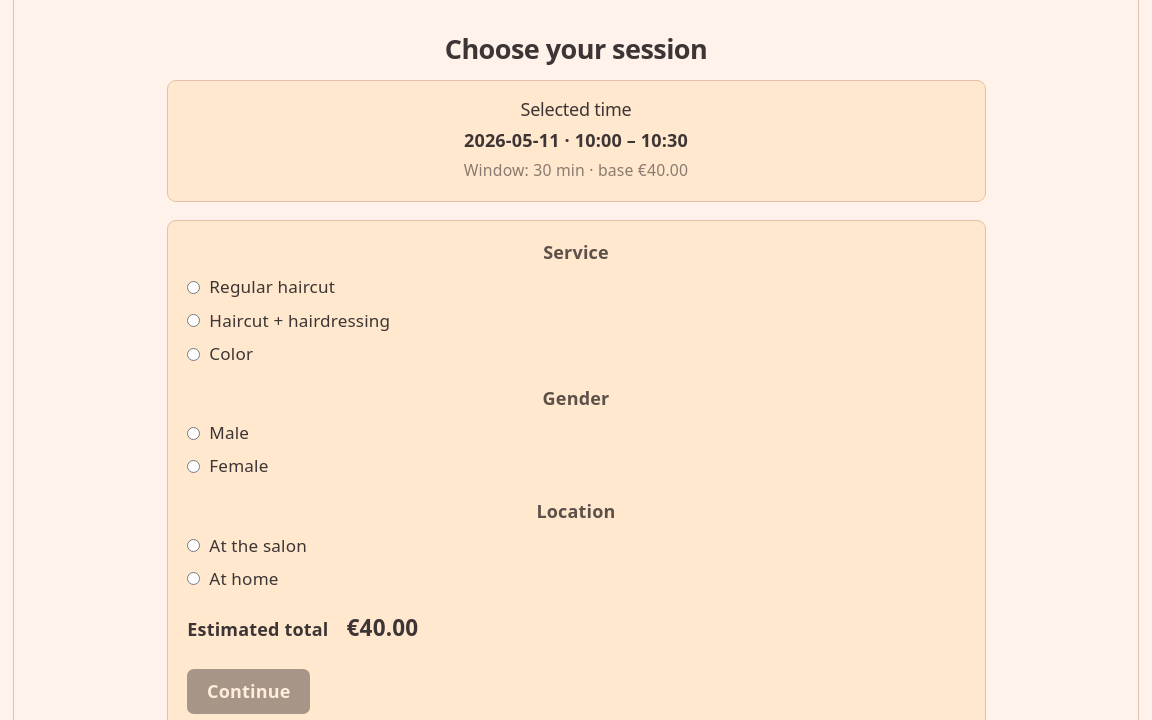
Test: ClientServiceView › keeps Continue disabled until type, gender, and location are valid for the slot
Expected: the button "Continue" is disabled, [187,669,310,714]
Click the radio button named "serviceType".
click(194, 288)  # box [187,281,200,294]
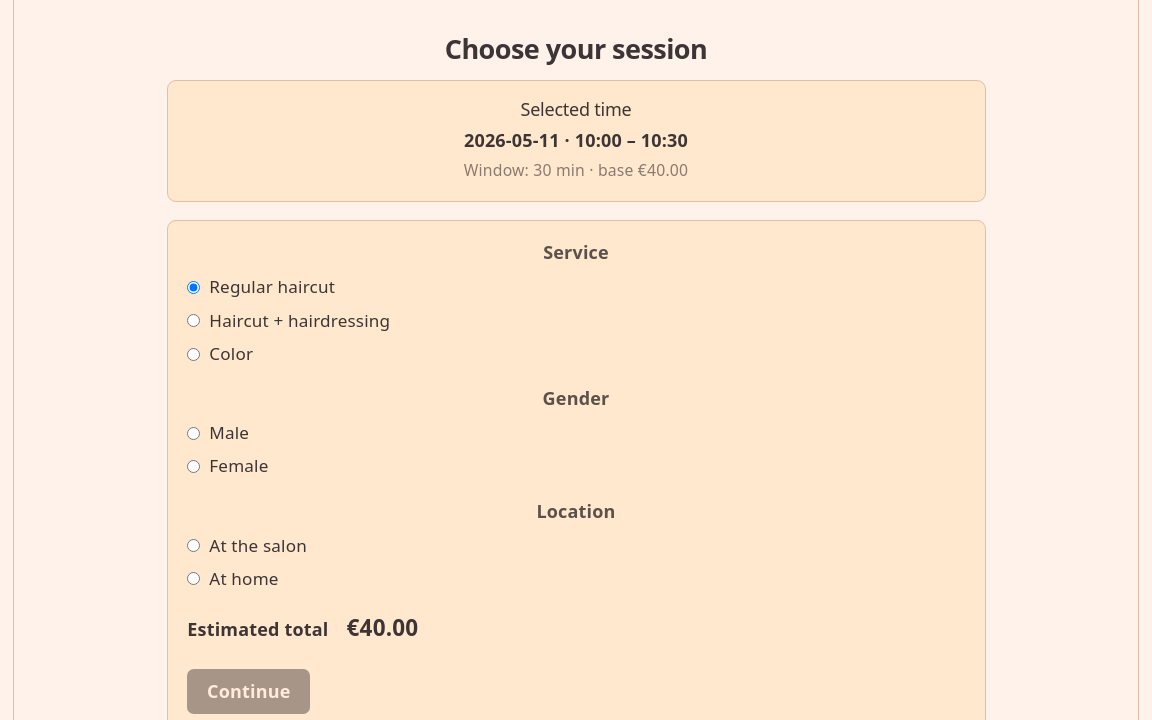
Click the radio button named "gender".
click(194, 433)  # box [187,427,200,440]
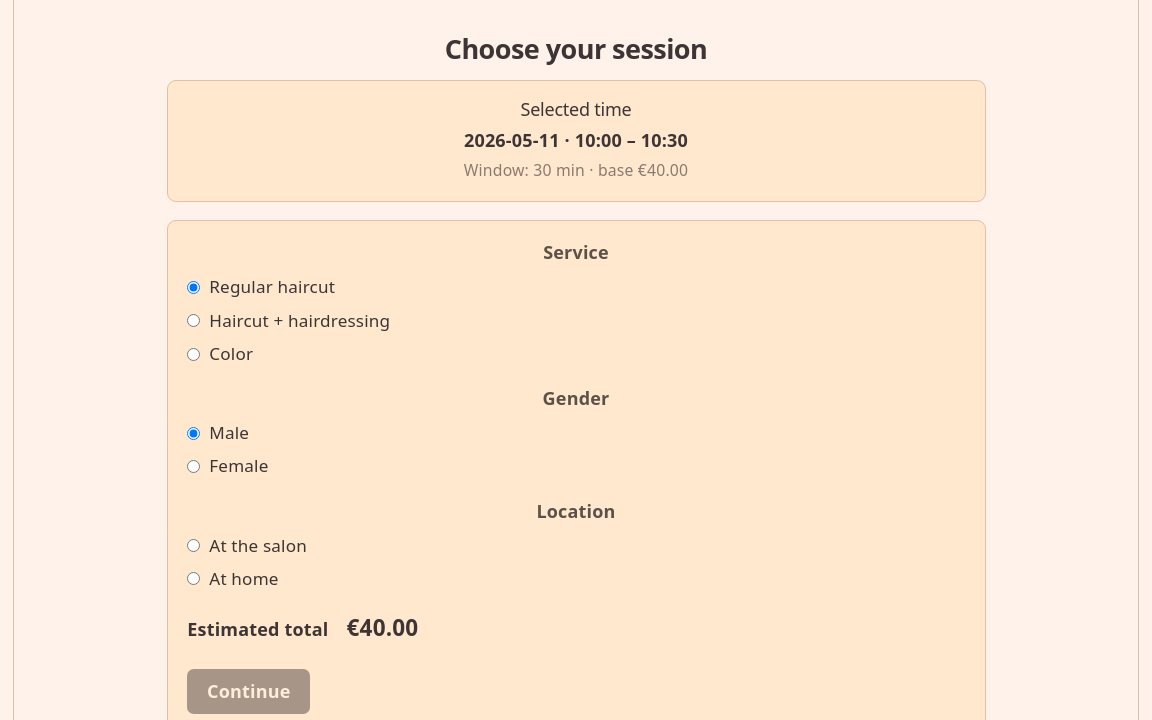
Click the radio button named "location".
click(194, 546)  # box [187,539,200,552]
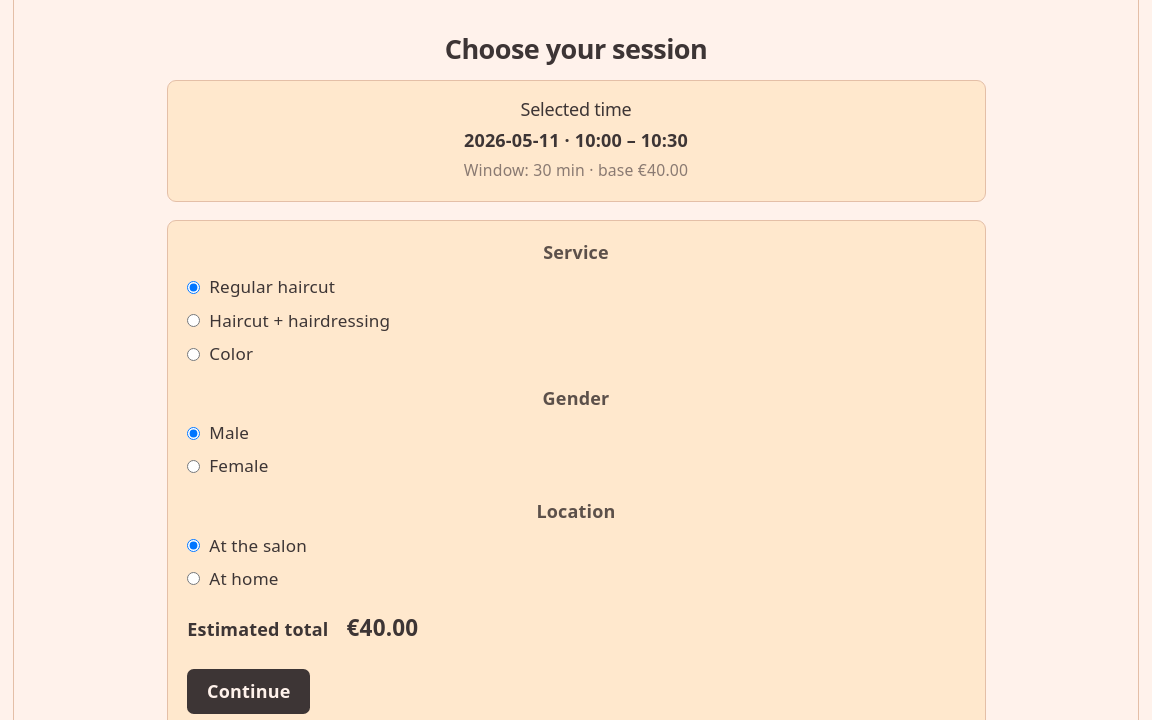
Expected: the button "Continue" is enabled, [187,669,310,714]
